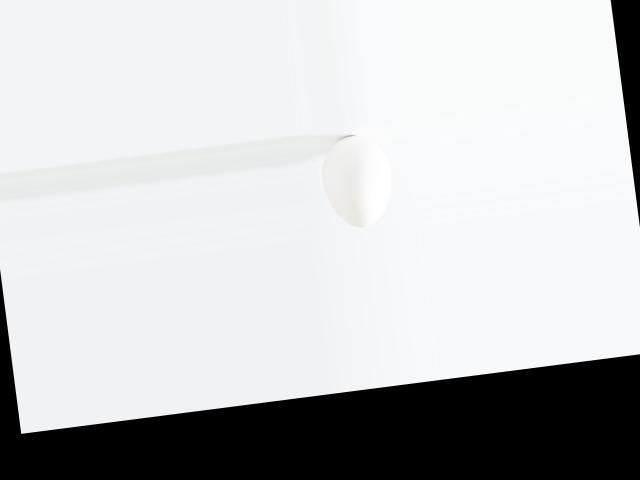egg: (318, 131, 397, 231)
